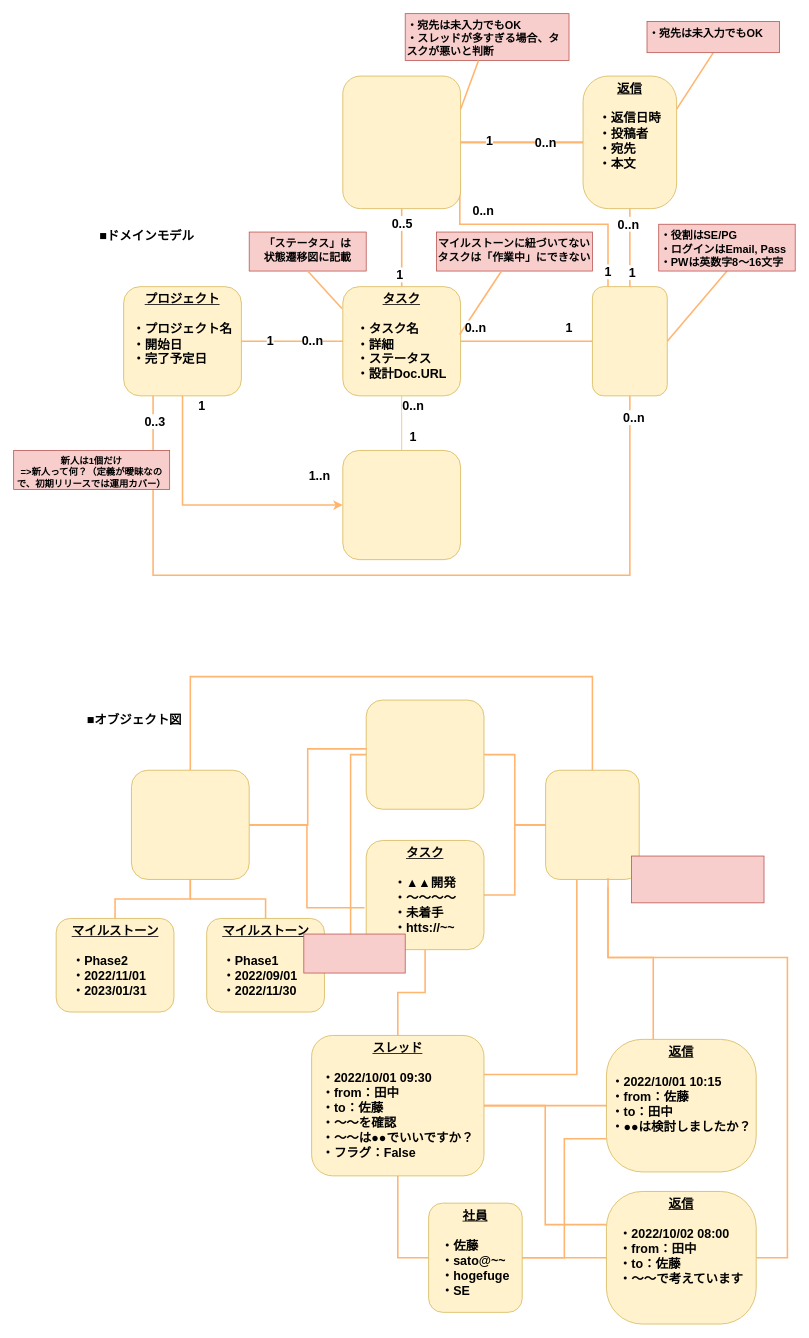
The diagram is 809 pixels wide and 1338 high, and some of its shapes have lost their labels. The shapes that lost their labels are listed below. From the top down, each one's box as (x1, y1, x2, y2) in pixels, then its label:
(342, 75, 461, 209): スレッド ・作成日時 ・作成者 ・宛先 ・タイトル ・本文 ・解決フラグ
(592, 286, 667, 396): 社員 ・氏名 ・Email ・PW ・役割
(342, 450, 461, 560): マイルストーン ・マイルストーン名 ・開始日 ・完了予定日
(365, 699, 484, 809): タスク ・●●開発 ・～～～～ ・作業中 ・https://~~
(131, 769, 249, 879): プロジェクト ・A社●●案件 ・2022/09/01 ・2023/08/31
(545, 769, 639, 879): 社員 ・ 田中 太郎 ・tanaka@~~ ・hogefuge ・PG
(631, 855, 764, 903): タスクの割り当ては、 PJ参加スタッフから プルダウン選択
(303, 933, 405, 973): 未着手なら マイルストーン不要
